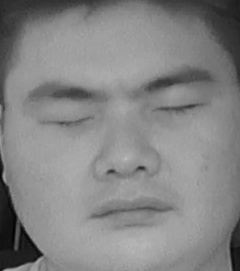blink: (41, 102, 100, 135), (154, 89, 208, 123)
mouth: (86, 189, 174, 231)
